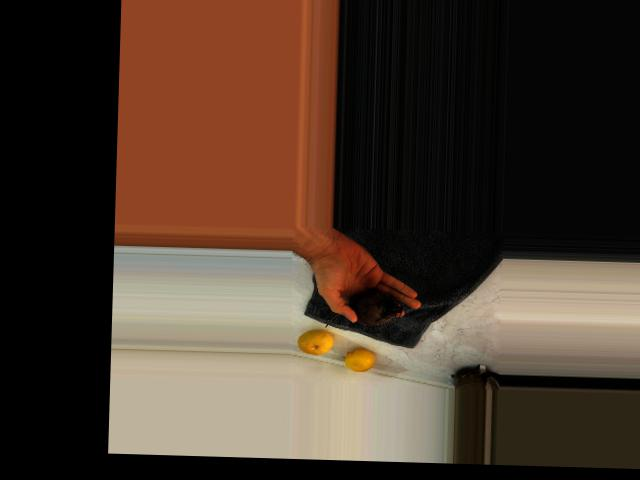beet: (325, 288, 403, 329)
